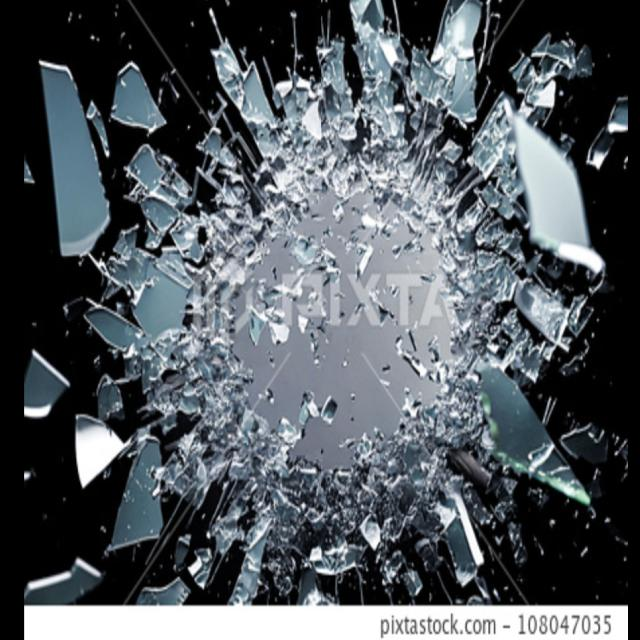PecahanKaca: (23, 0, 625, 603)
